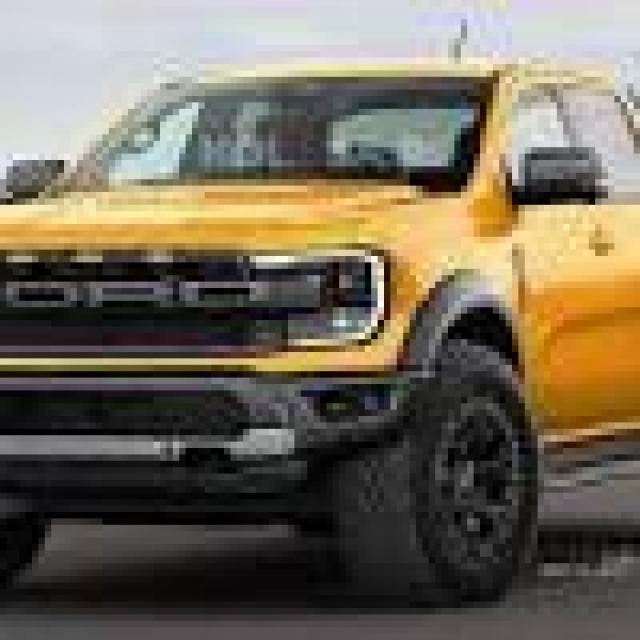Pickup Trucks: (6, 58, 640, 595)
